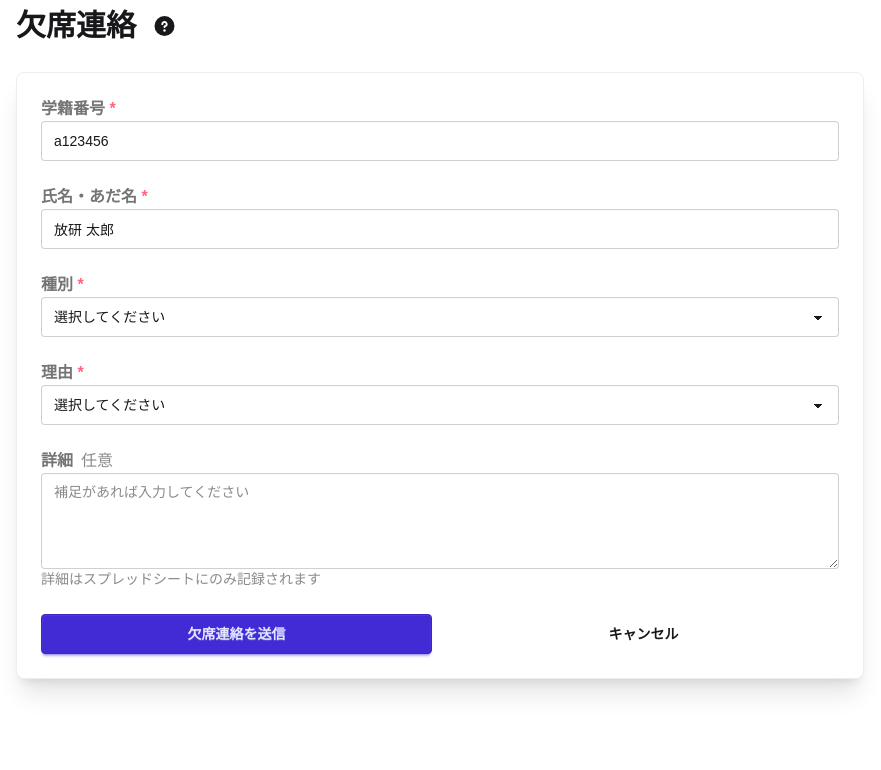
Scenario: AbsenceFormContent › 中抜けの時刻を含めて欠席連絡を送信し、成功後に入力をリセットする
The image size is (881, 770).
Select "中抜け" in the dropdown below "種別" at (440, 317), box [41, 297, 839, 337]
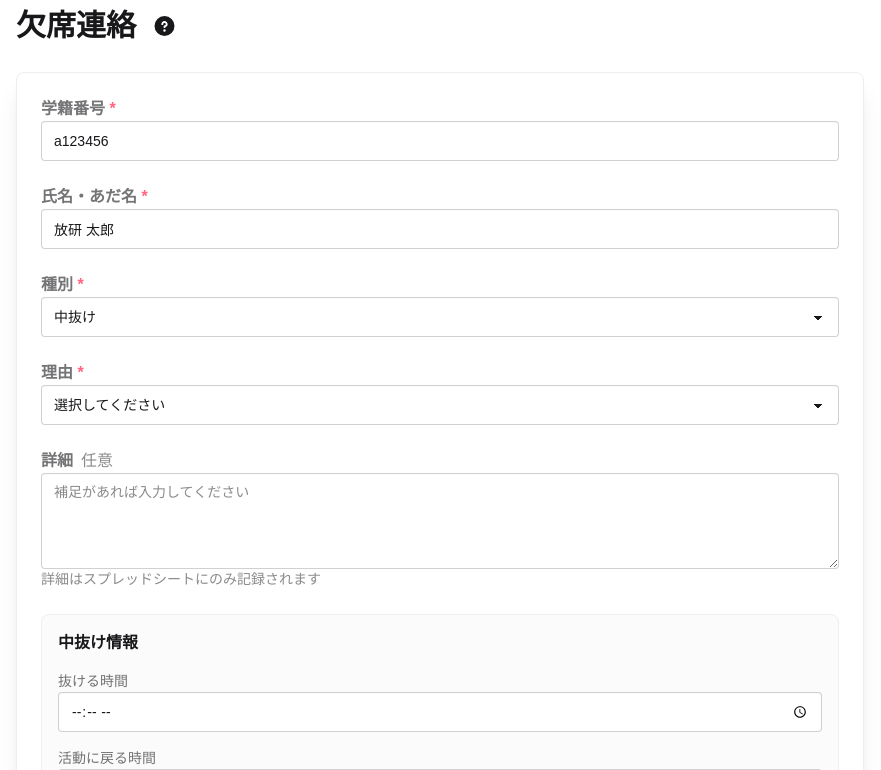
Select "授業" in the dropdown below "理由" at (440, 405), box [41, 385, 839, 425]
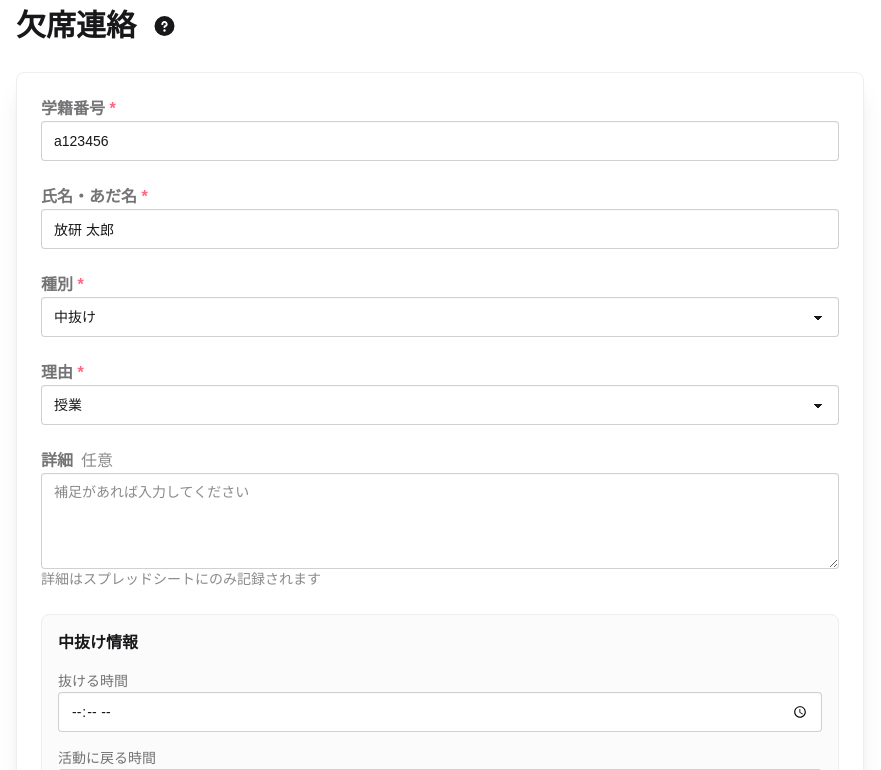
Type "4限のみ参加" into the text box with placeholder "補足があれば入力してください" at (440, 521), box [41, 473, 839, 569]
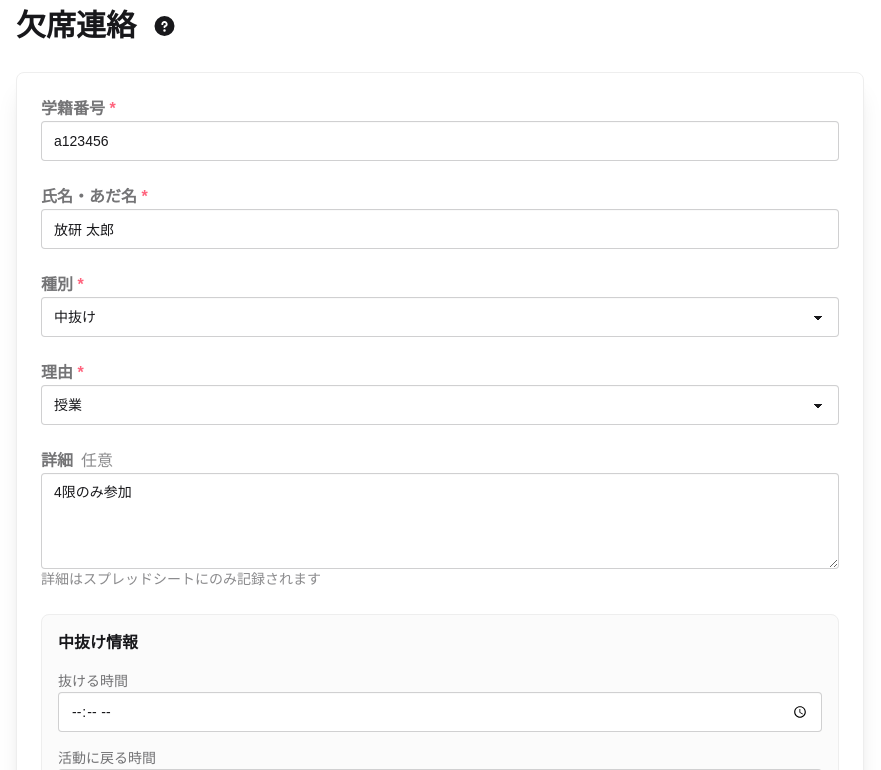
Type "15:00" into the time field below "抜ける時間" at (440, 712), box [58, 692, 822, 732]
(page scrolled)
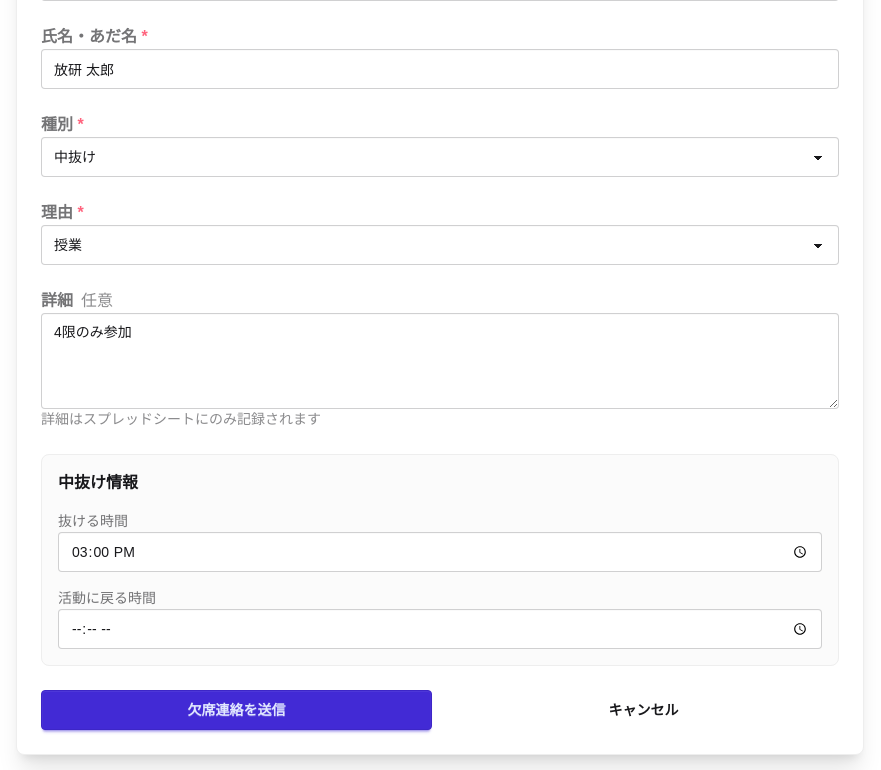
Type "16:30" into the time field below "活動に戻る時間" at (440, 629), box [58, 609, 822, 649]
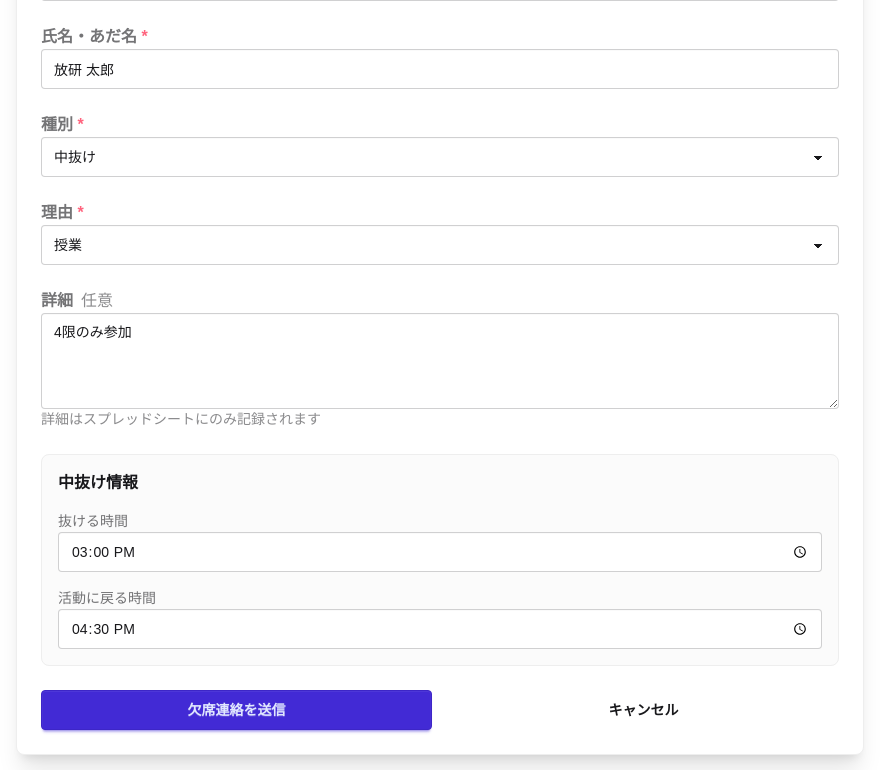
Click the button "欠席連絡を送信" at (236, 710), box [41, 690, 432, 730]
(page scrolled)
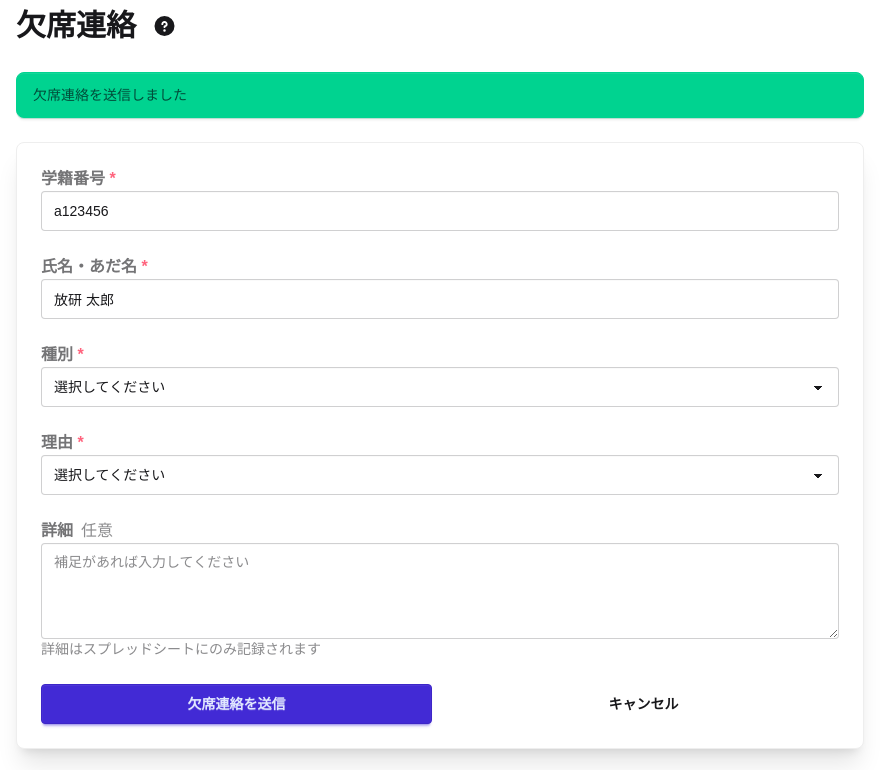
Expected: the field with placeholder "例: 12345678" below "学籍番号" holds "a123456", [41, 191, 839, 231]
Expected: the text "欠席連絡を送信しました" is shown, [33, 85, 187, 105]
